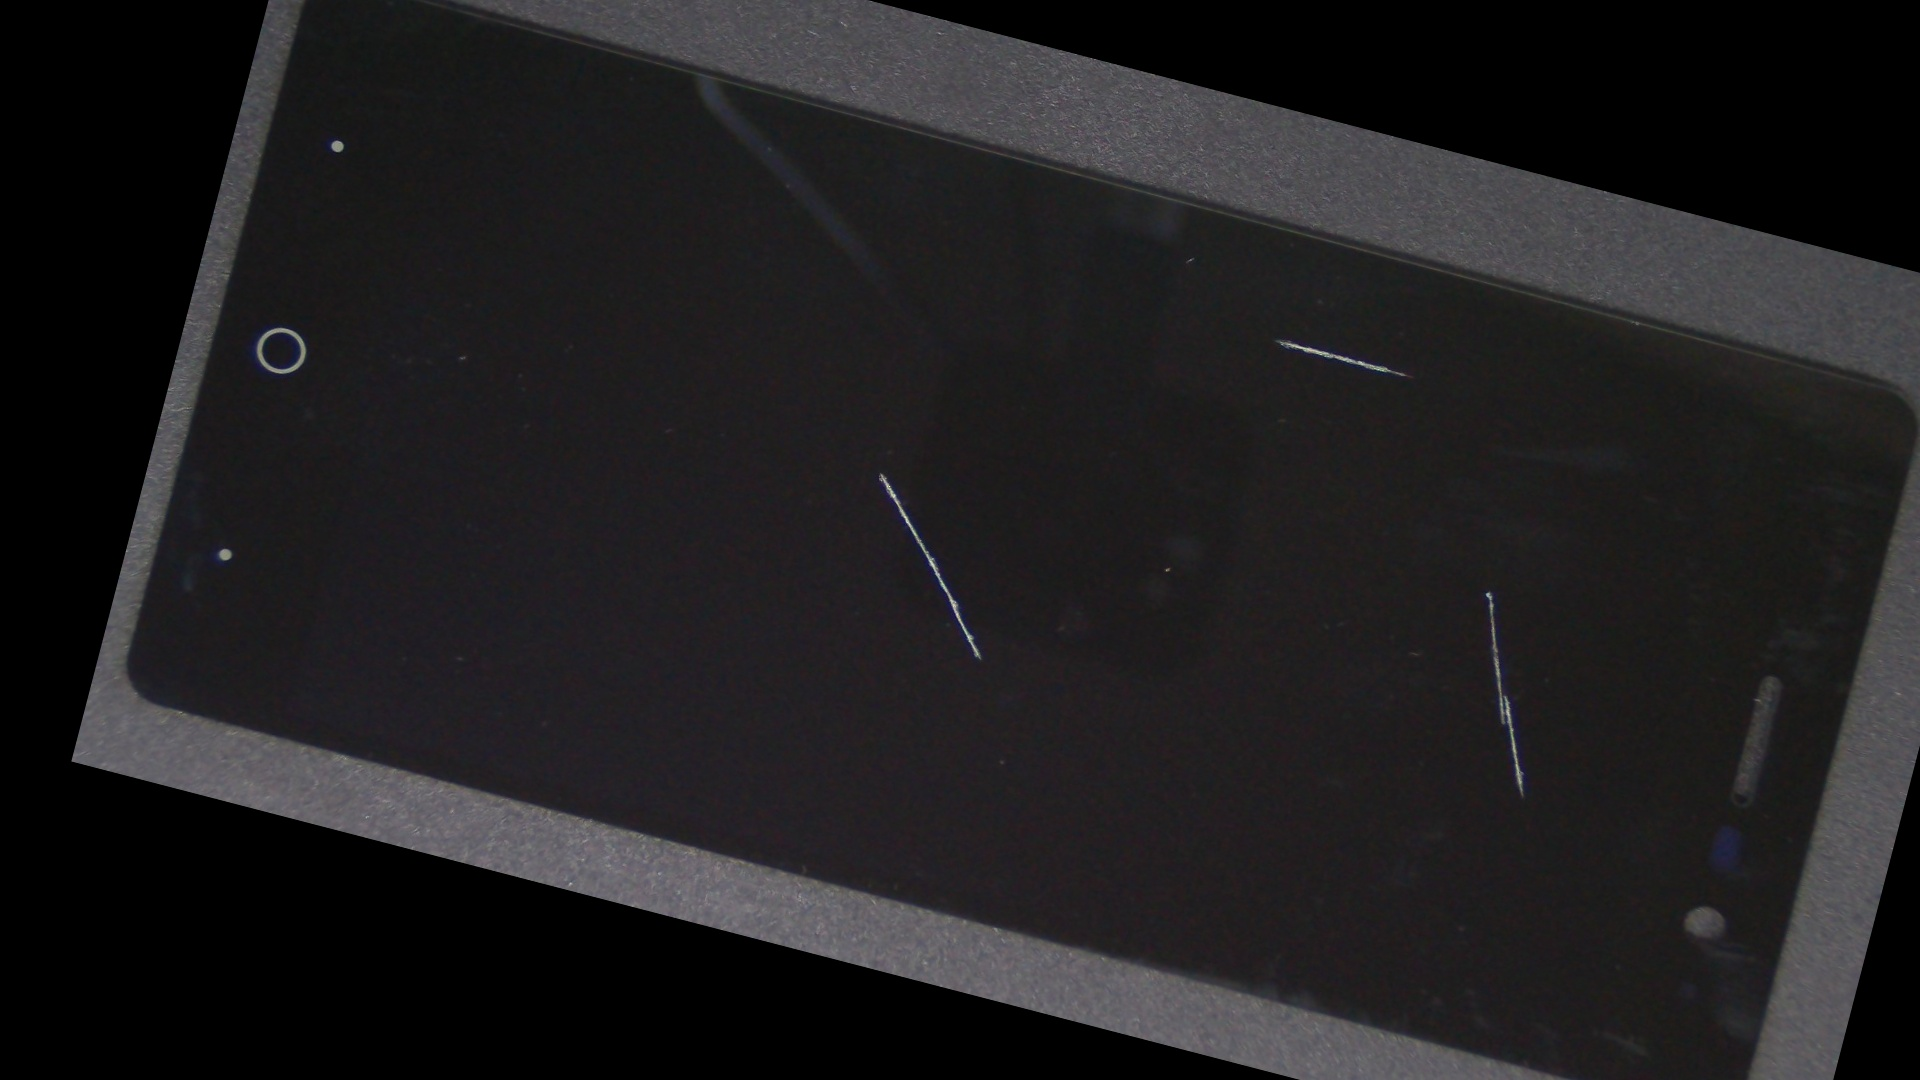oil: (794, 223, 1920, 906), (740, 96, 1829, 580), (481, 162, 1282, 781)
